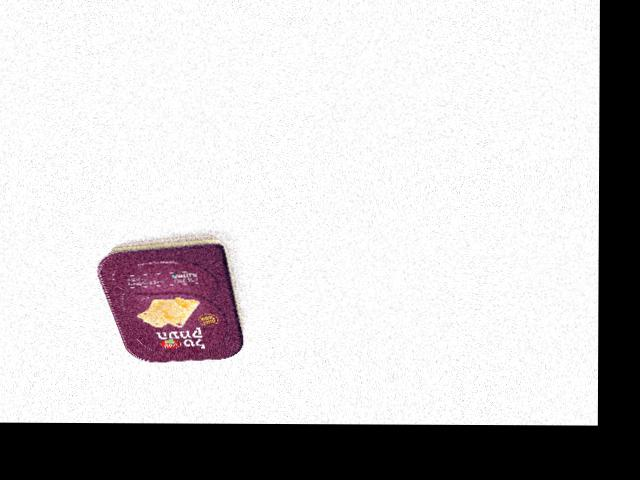cheese: (96, 235, 244, 363)
